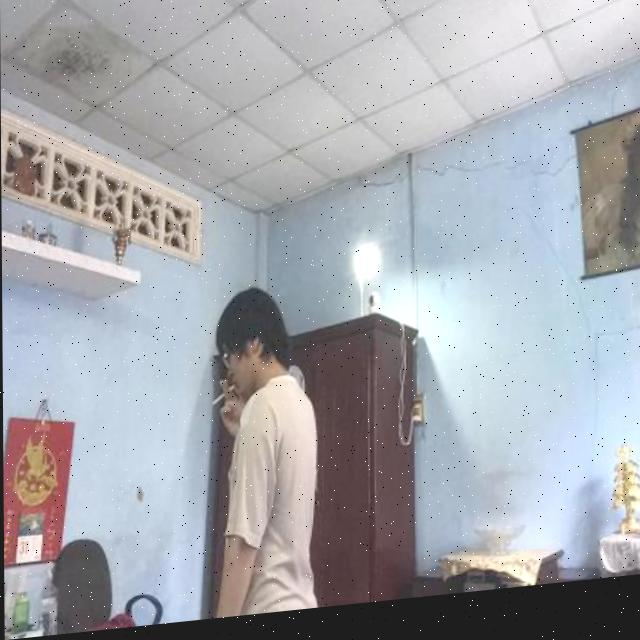cigarette: (211, 389, 234, 411)
